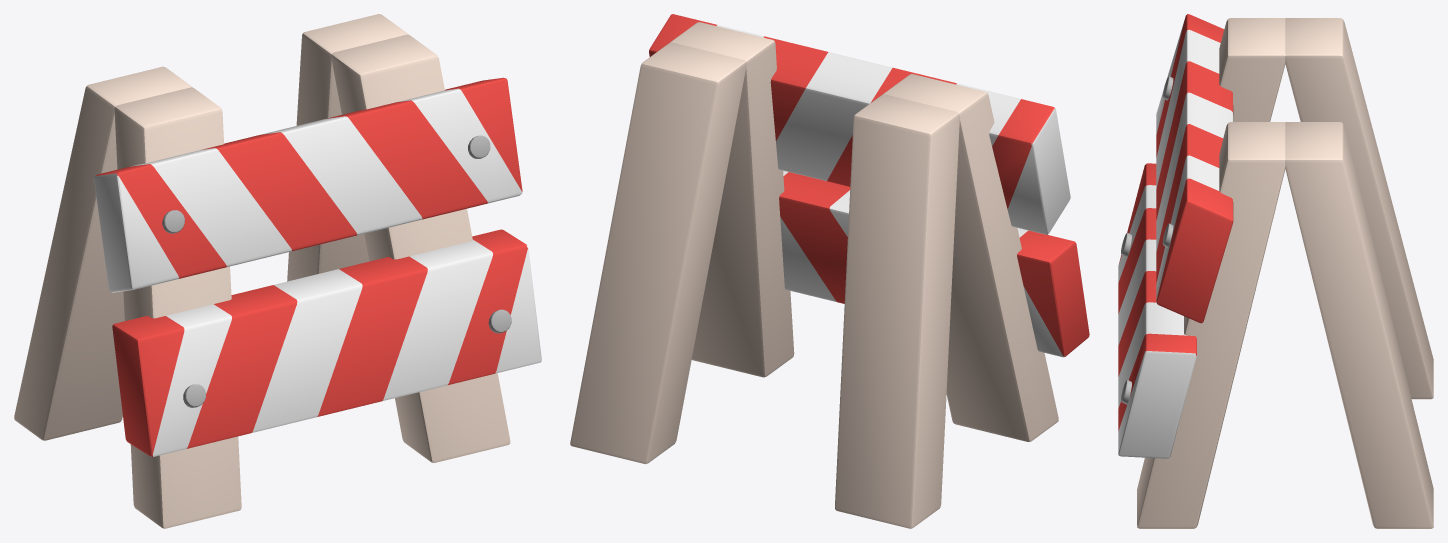
File: Props_WarningSign.fbx
3 renders of one model, left to right at view 1: azimuth 30°, elevation 25°; view 2: azimuth 150°, elevation 25°; view 3: azimuth 270°, elevation 25°, orthographic.
Visible parts, largest first — view 1: Props_WarningSign; view 2: Props_WarningSign; view 3: Props_WarningSign.
Boxes of the visible parts, bbox=[...] form: Props_WarningSign: bbox=[14, 14, 541, 528]; Props_WarningSign: bbox=[570, 14, 1089, 528]; Props_WarningSign: bbox=[1118, 14, 1433, 528].
Bounding box in the file's own units: 129 × 114 × 91.31.
